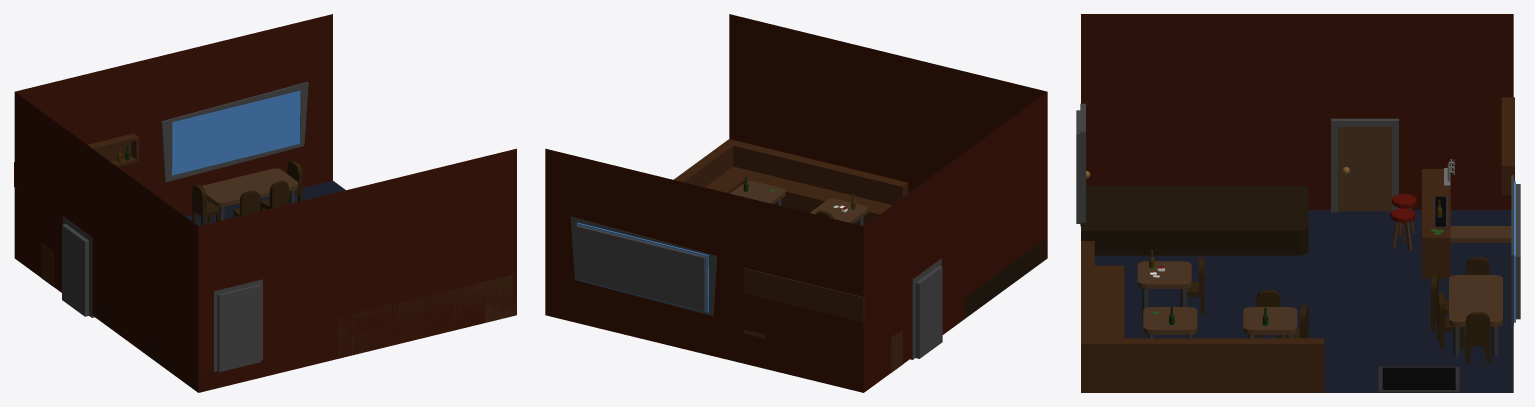
Rendered from Bar.glb.
The picture shows the model from 3 angles, left to right: view 1: azimuth 30°, elevation 25°; view 2: azimuth 150°, elevation 25°; view 3: azimuth 270°, elevation 25°; orthographic projection. The views are drawn at different scales.
Parts seen in each view (by area): view 1: Left Wall, Front Wall, RightWall, Window, Couch, DoorStage, DoorBack, Table.001, Shelf, Stage1, Floor, Chair7 (+3 smaller); view 2: RightWall, Left Wall, Front Wall, Window, Couch, Shelf, DoorBack, Stage1, Table.002, Table.003, Stage2, Bar; view 3: Front Wall, Floor, Couch, Stage1, Stage2, DoorBackInside, Table.001, Bar, DoorBack, Table.002, Exit1, Table (+14 smaller).
Part boxes in pixels (x1,y1,x2,y2): Left Wall: (198,148,516,392); Front Wall: (14,92,198,392); RightWall: (15,14,332,216); Window: (161,81,308,182); Couch: (337,274,516,358); DoorStage: (213,279,262,372); DoorBack: (62,216,94,317); Table.001: (202,168,298,220); Shelf: (14,133,139,188); Stage1: (143,332,244,392); Floor: (186,180,345,226); Chair7: (192,184,219,225); RightWall: (545,148,863,392); Left Wall: (729,14,1047,193); Front Wall: (863,92,1047,392); Window: (570,216,716,316); Couch: (673,139,908,225); Shelf: (743,268,866,322); DoorBack: (910,258,942,359); Stage1: (997,238,1047,294); Table.002: (810,198,867,226); Table.003: (730,181,785,205); Stage2: (957,275,996,323); Bar: (890,329,902,372); Front Wall: (1081,14,1513,209); Floor: (1094,210,1513,392); Couch: (1081,241,1324,392); Stage1: (1081,185,1210,255); Stage2: (1200,185,1308,255); DoorBackInside: (1338,127,1392,211); Table.001: (1449,275,1502,356); Bar: (1422,169,1450,278); DoorBack: (1331,118,1398,212); Table.002: (1137,261,1191,318); Exit1: (1382,367,1455,389); Table: (1243,307,1297,338).
Bounding box in the file's own units: 16.21 × 8.2 × 16.42.
